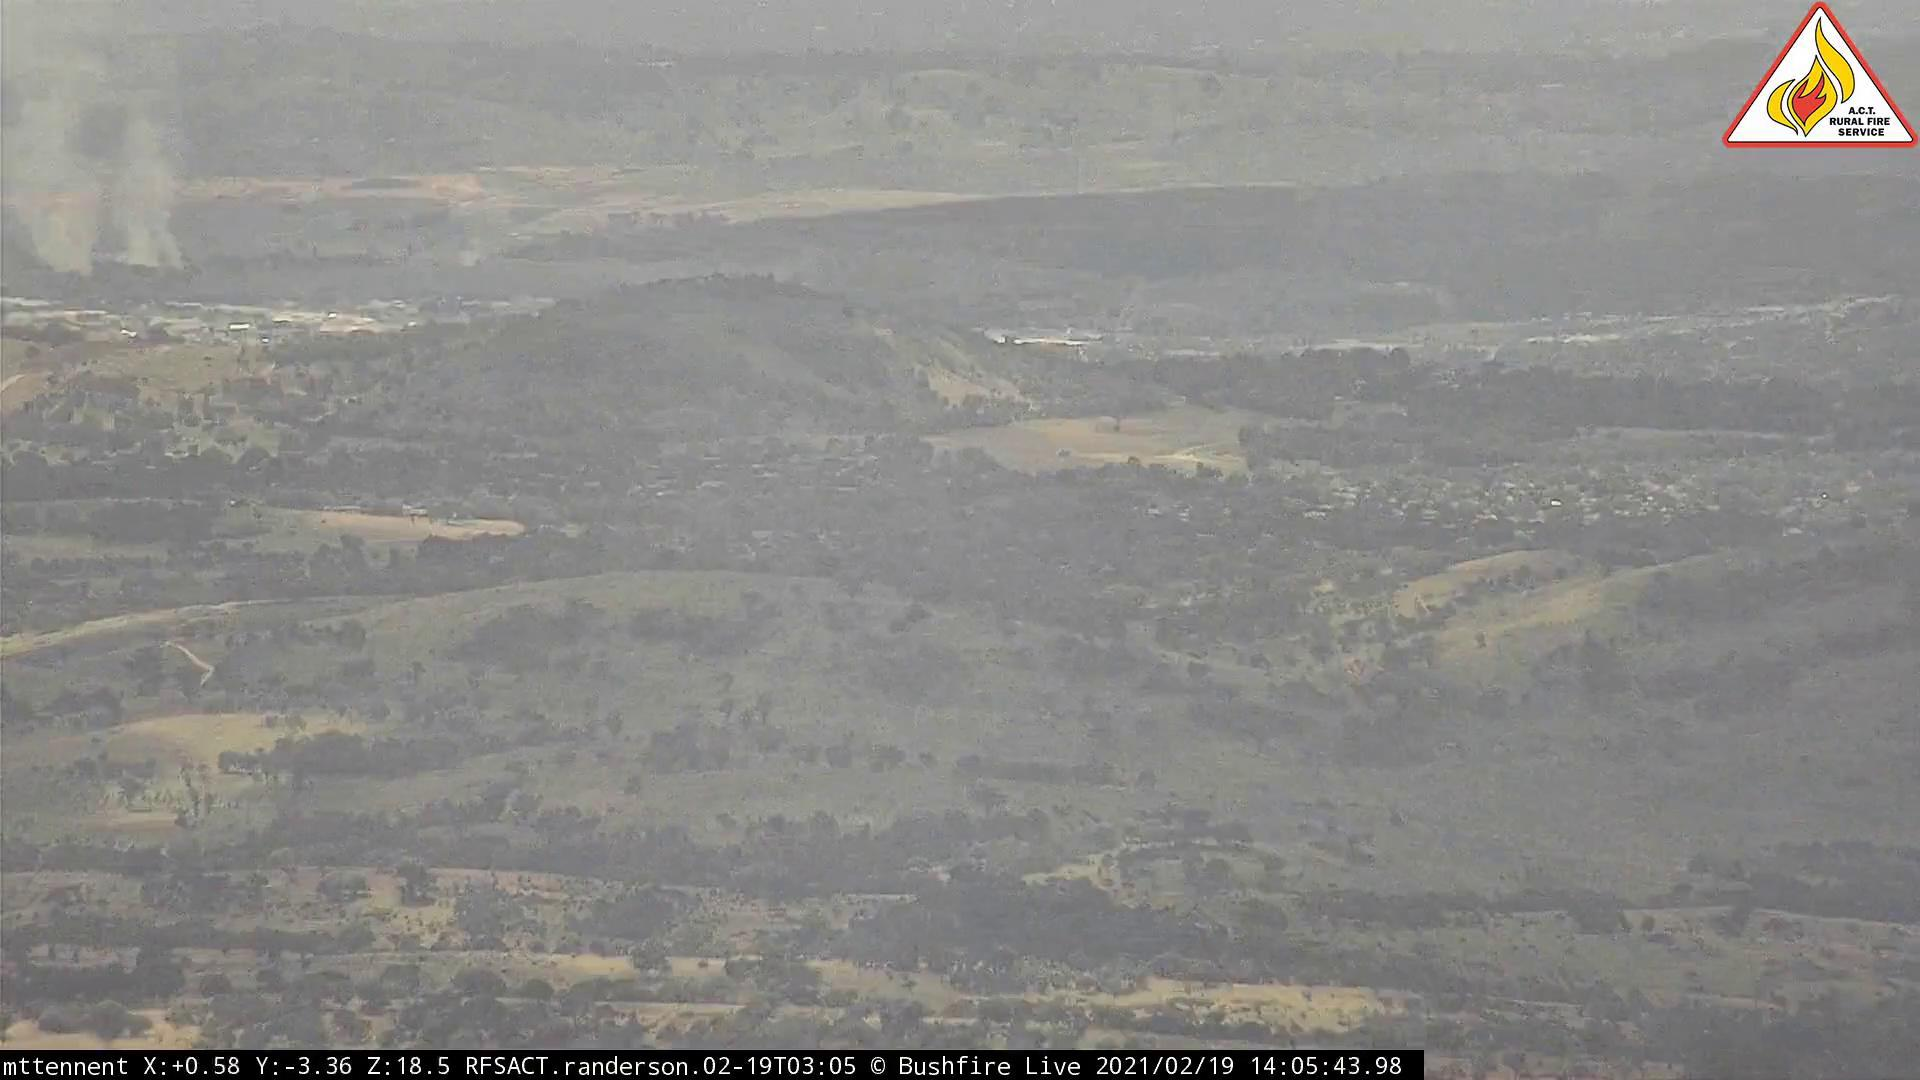instance_salient_object: (3, 3, 196, 280)
